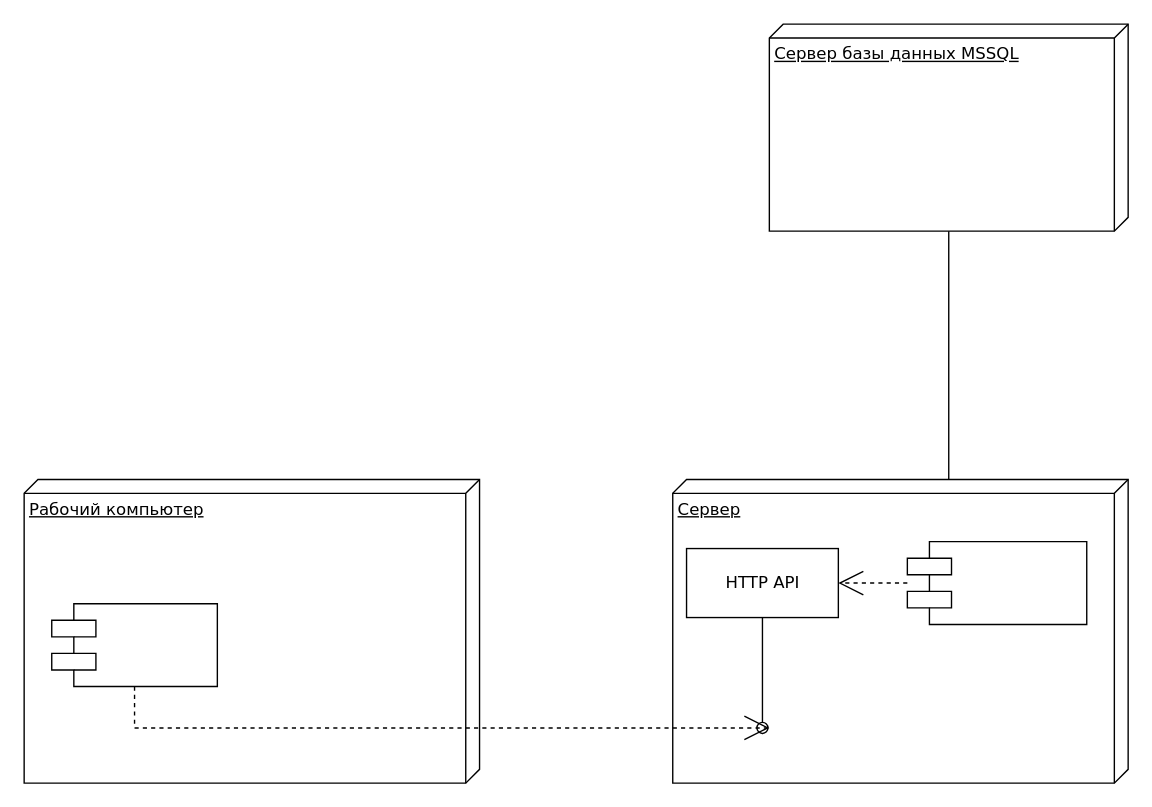
Some shapes in this 1152 by 807 pixel diagram are drawn without their labels. Here are the shapes that lost their labels. From the top down, the centre of each, then its label:
At (x=996, y=582): "BidServer.exe".
At (x=133, y=644): "BidApp.exe".
